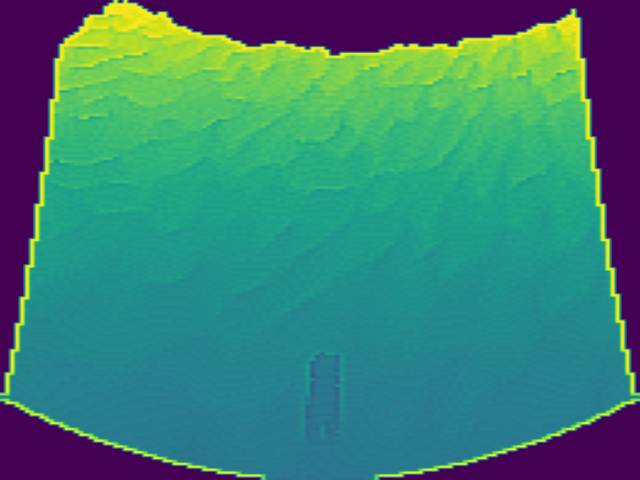car_0198: (304, 352, 341, 442)
